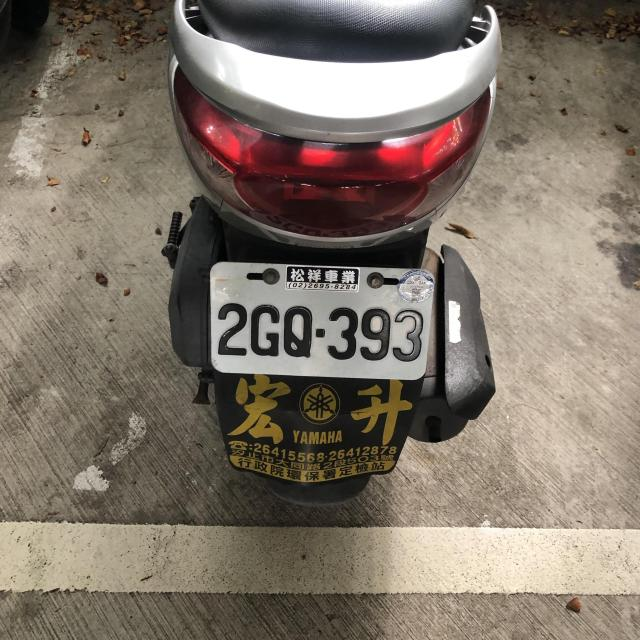W: (207, 260, 437, 382)
